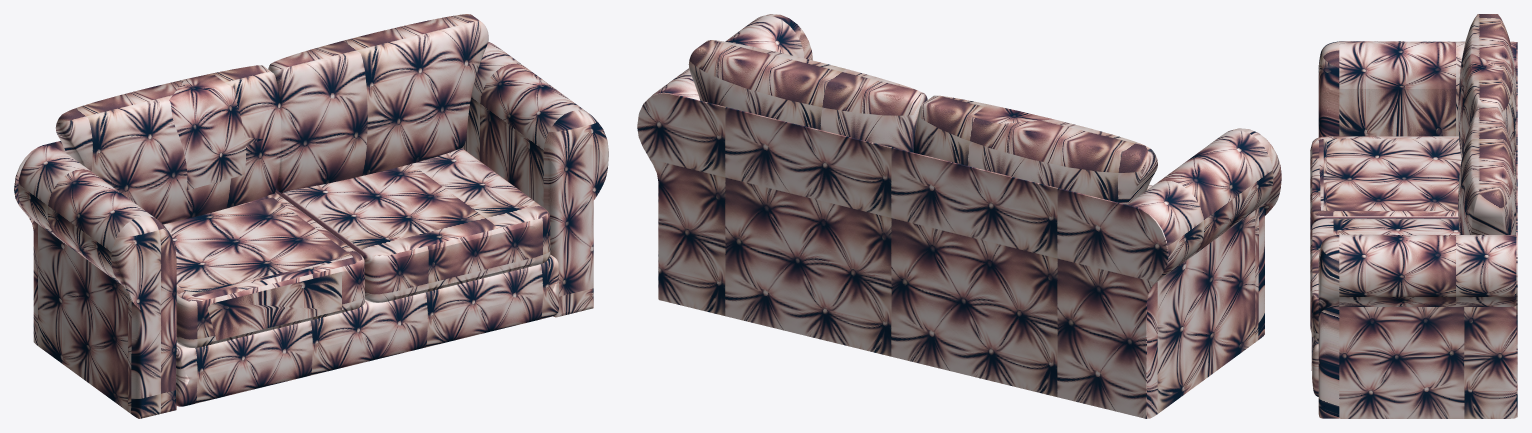
Rendered from sofa10.glb.
3 renders of one model, left to right at view 1: azimuth 30°, elevation 25°; view 2: azimuth 150°, elevation 25°; view 3: azimuth 270°, elevation 25°, orthographic. The views are drawn at different scales.
Parts seen in each view (by area): view 1: sofa4; view 2: sofa4; view 3: sofa4.
Part boxes in pixels (<box>): sofa4: <box>14,14,608,418</box>; sofa4: <box>637,14,1281,418</box>; sofa4: <box>1310,14,1517,418</box>.
Bounding box in the file's own units: 5.46 × 2.47 × 2.19.
1 material, 1 textured.
